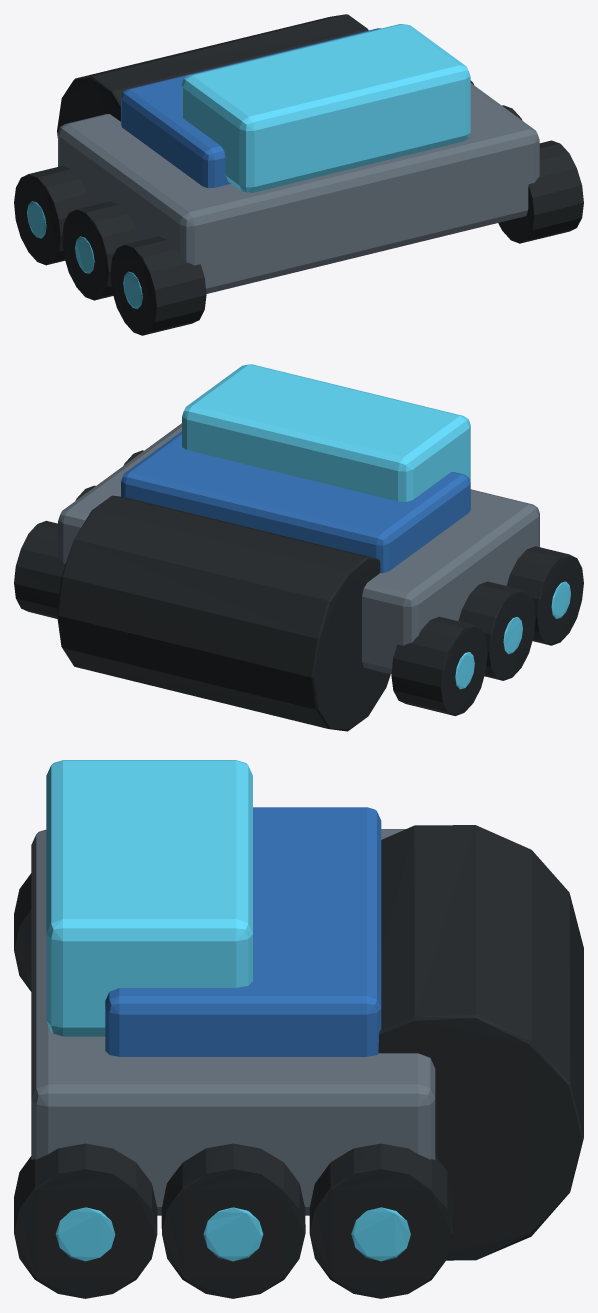
The model's file is SM_Alliance_AL_PioneerHarvester_LOD1.fbx.
The picture shows the model from 3 angles, top to bottom: view 1: azimuth 30°, elevation 25°; view 2: azimuth 150°, elevation 25°; view 3: azimuth 270°, elevation 25°; orthographic projection. The views are drawn at different scales.
Visible parts, largest first — view 1: LOD01_SM_Alliance_AL_PioneerHarvester; view 2: LOD01_SM_Alliance_AL_PioneerHarvester; view 3: LOD01_SM_Alliance_AL_PioneerHarvester.
Part boxes in pixels (bbox=[...]): LOD01_SM_Alliance_AL_PioneerHarvester: bbox=[14, 14, 583, 335]; LOD01_SM_Alliance_AL_PioneerHarvester: bbox=[14, 364, 583, 731]; LOD01_SM_Alliance_AL_PioneerHarvester: bbox=[14, 760, 583, 1298].
Bounding box in the file's own units: 541 × 405 × 255.
